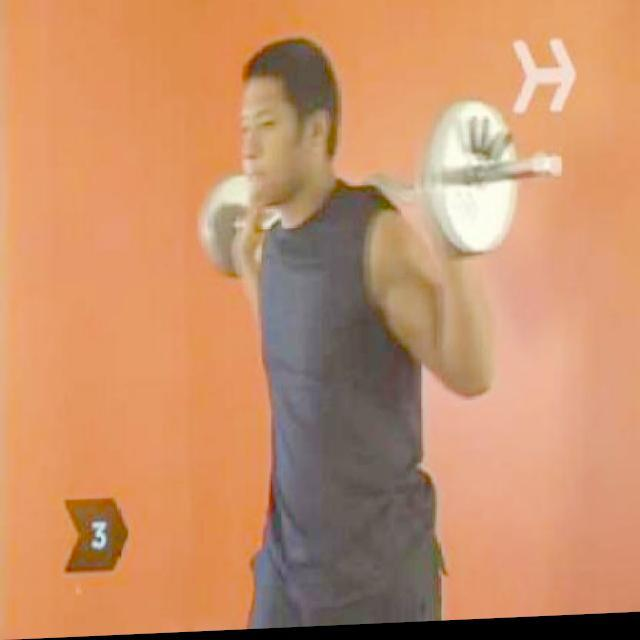barbell: (432, 100, 566, 269)
